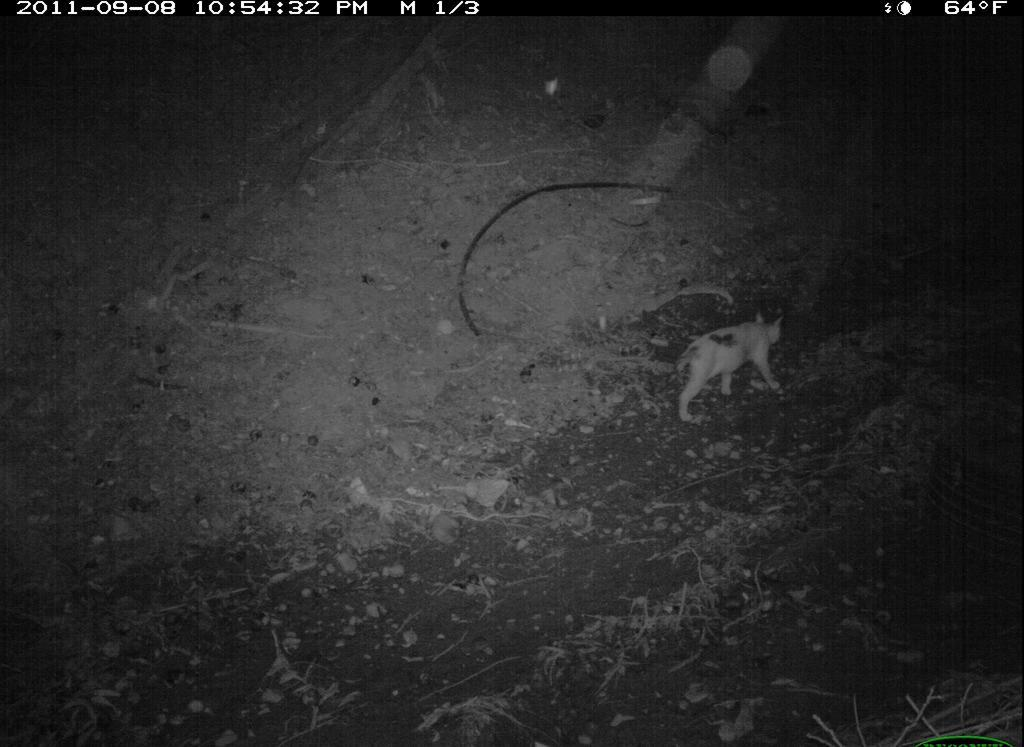cat: (652, 301, 809, 429)
